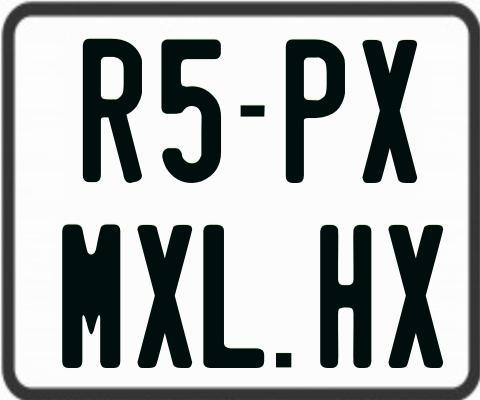5: (159, 37, 223, 181)
H: (320, 225, 375, 373)
L: (201, 222, 262, 368)
M: (60, 222, 120, 370)
P: (286, 39, 345, 183)
R: (82, 37, 142, 185)
X: (386, 222, 445, 368), (137, 224, 196, 369), (363, 38, 417, 183)
